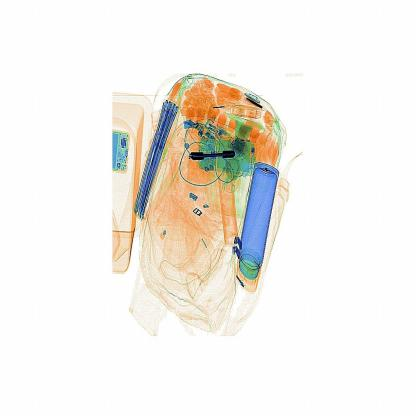knife: (190, 144, 242, 170)
